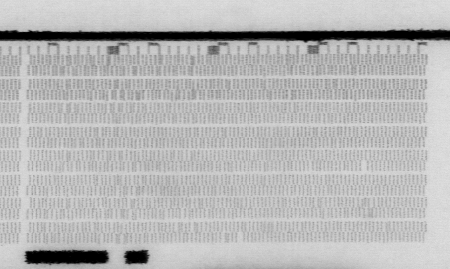Broken hole: (235, 232, 247, 244), (359, 160, 371, 172)
Oblique printing: (45, 128, 183, 248), (47, 52, 204, 101), (50, 99, 183, 126), (259, 78, 301, 102), (184, 196, 208, 220), (356, 196, 379, 220), (331, 77, 350, 102), (280, 52, 298, 77), (312, 196, 328, 221), (184, 221, 201, 234), (216, 231, 231, 245), (184, 149, 198, 163), (346, 64, 360, 77)
